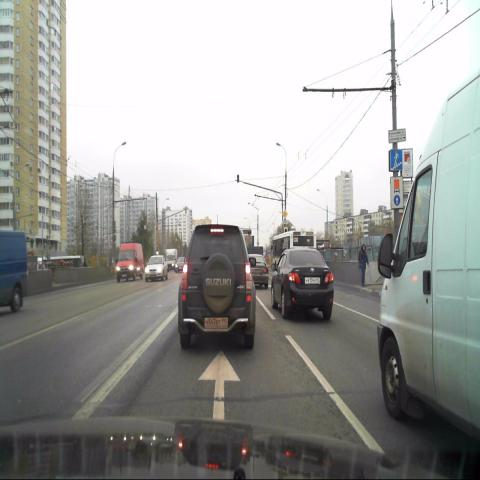4_8_2: (390, 176, 404, 208)
